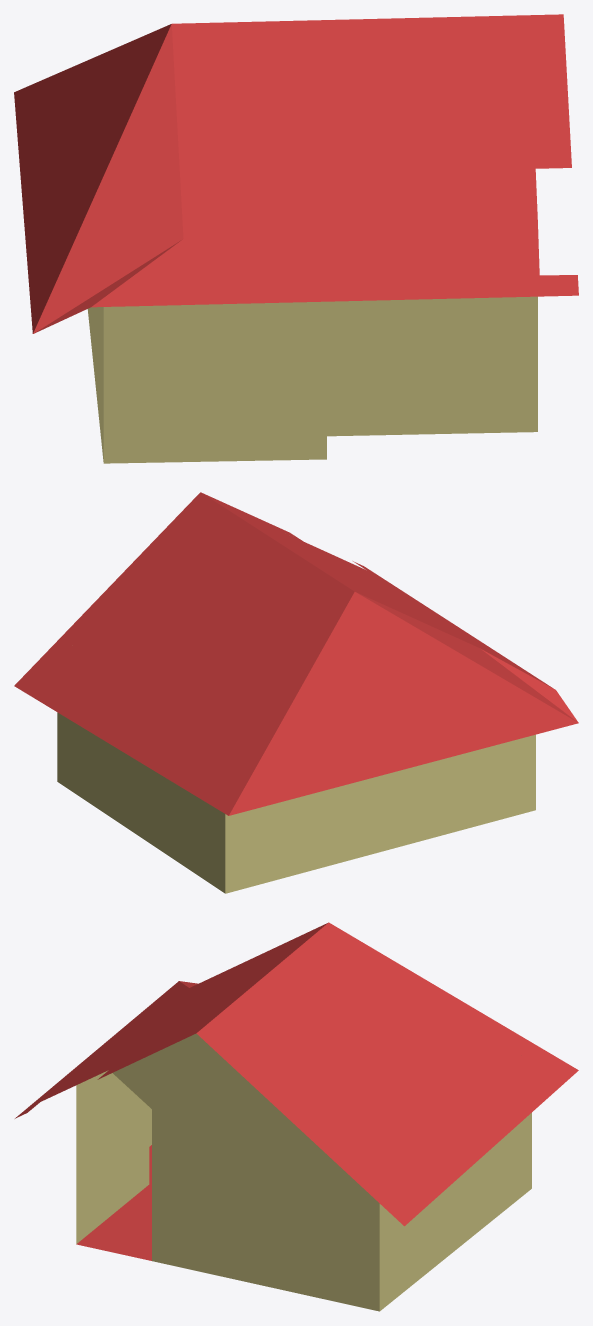
3 views of the same model, one above another, from view 1: azimuth 30°, elevation 25°; view 2: azimuth 150°, elevation 25°; view 3: azimuth 270°, elevation 25° (orthographic). The views are drawn at different scales.
Bounding box in the file's own units: 35.32 × 35.44 × 17.29.
